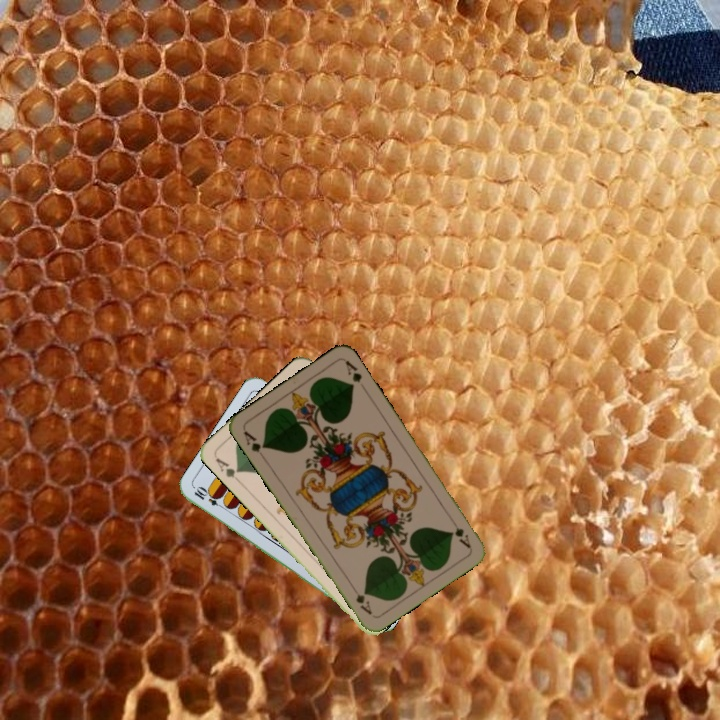E10: (190, 483, 228, 512)
GA: (211, 453, 243, 485), (239, 427, 268, 462), (451, 523, 473, 551)
